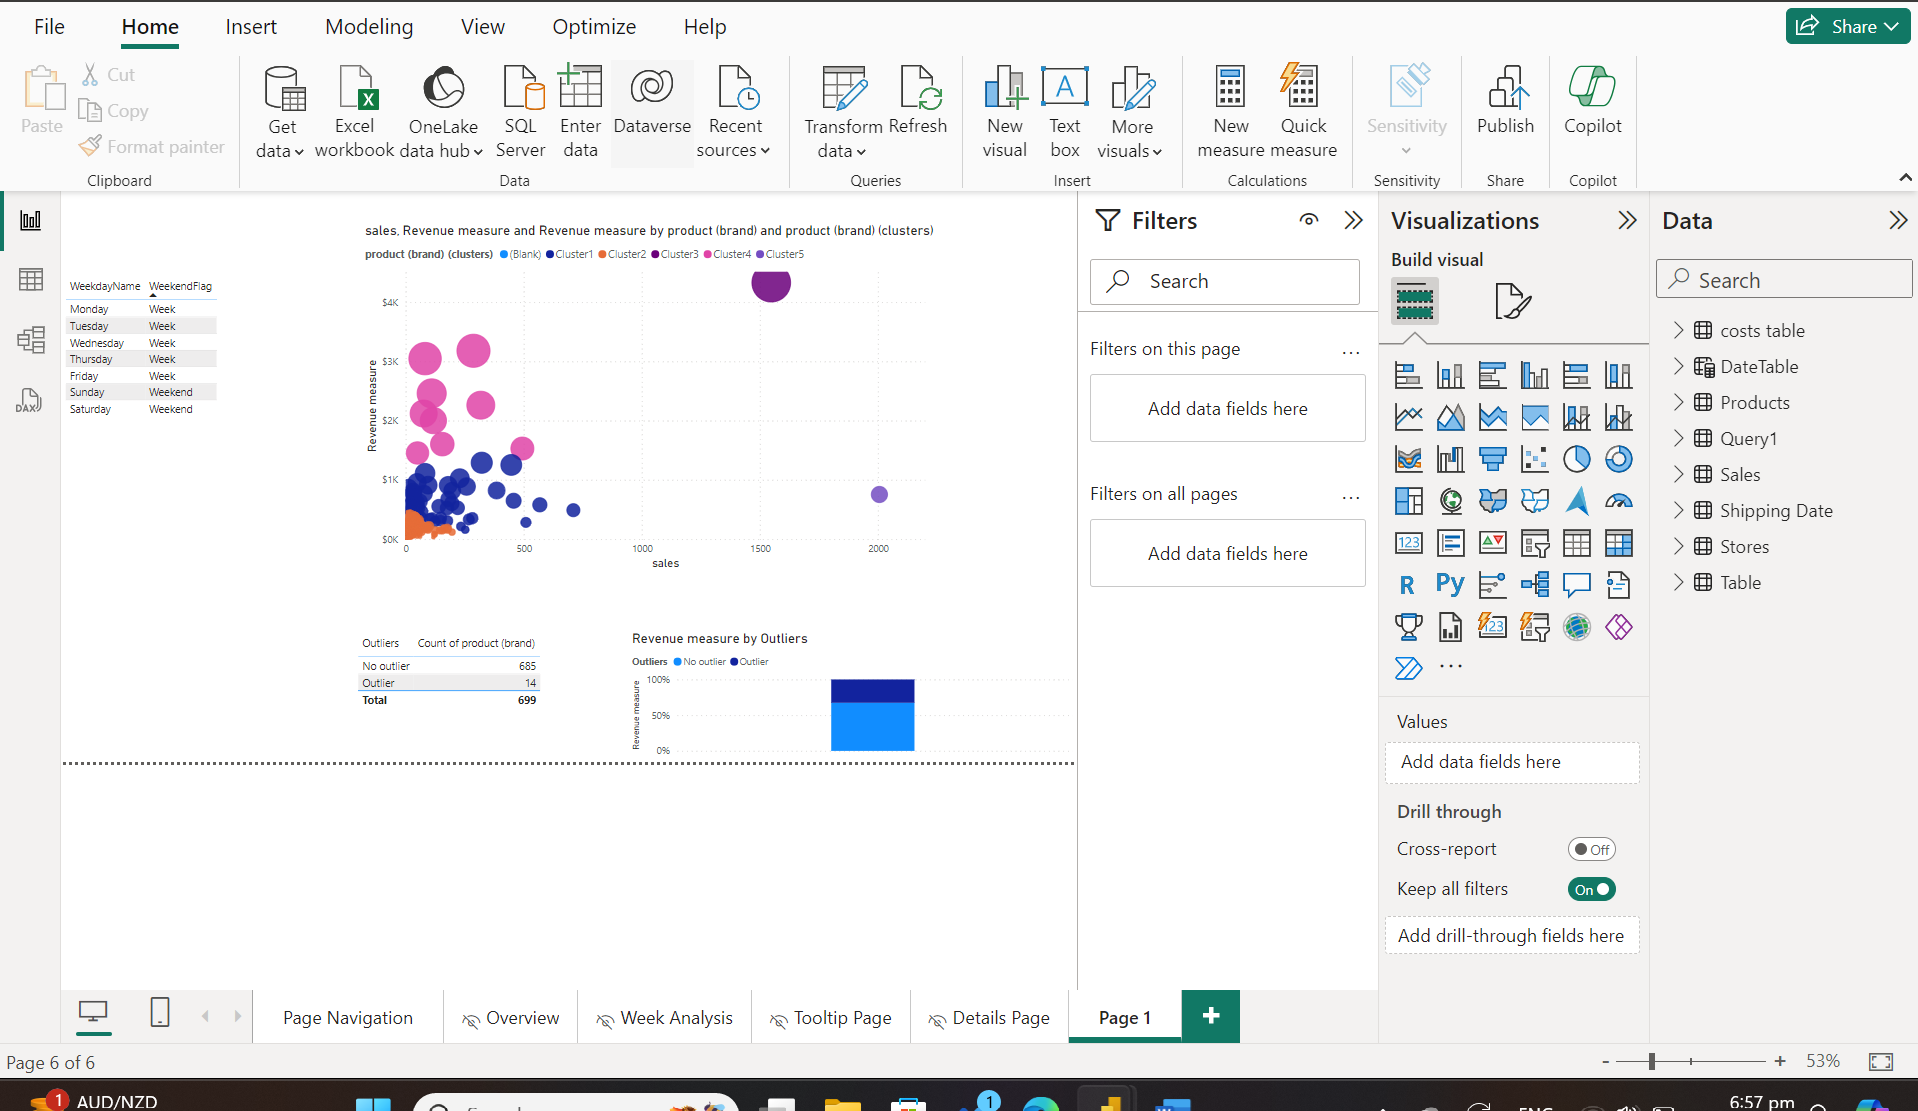

The page's visual inventory and layout, read from the dashboard file:
{"tool":"powerbi","page":{"name":"Page 1","canvas":[1280,720],"ordinal":5},"visuals":[{"type":"scatterChart","fields":{"Category":["Products.product (brand)"],"Y":["Sales.Revenue measure"],"X":["Sum(Sales.sales)"],"Size":["Sales.Revenue measure"],"Series":["Products.product (brand) (clusters)"]},"box":[378.4,38.9,728.5,441.6],"z":0},{"type":"tableEx","fields":{"Values":["Products.Outliers","Products.product (brand)"]},"box":[368.6,554.4,281.1,165.3],"z":1000},{"type":"hundredPercentStackedColumnChart","fields":{"Y":["Sales.Revenue measure"],"Series":["Products.Outliers"]},"box":[714.9,554.4,565.1,165.3],"z":2000},{"type":"tableEx","fields":{"Values":["DateTable.WeekdayName","DateTable.WeekendFlag"]},"box":[0,103.1,269.4,441.6],"z":3000}]}

Visuals, with their boxes on the page's 1280x720 design canvas (x1, y1, x2, y2). These are canvas units, not pixel positions in the 1918x1111 screenshot, which may show the page scaled, cropped or inside an application window:
scatterChart - Products.product (brand) x Sales.Revenue measure: box=[378, 39, 1107, 480]
tableEx - Products.Outliers x Products.product (brand): box=[369, 554, 650, 720]
hundredPercentStackedColumnChart - Sales.Revenue measure x Products.Outliers: box=[715, 554, 1280, 720]
tableEx - DateTable.WeekdayName x DateTable.WeekendFlag: box=[0, 103, 269, 545]
